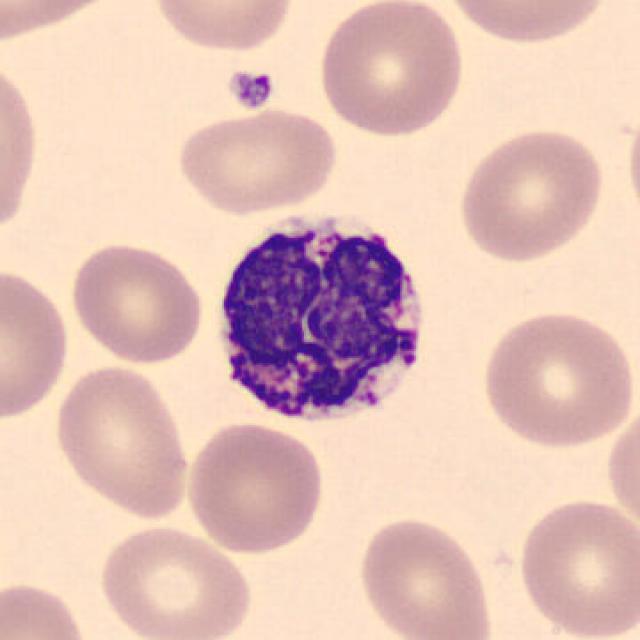Basophil: (205, 196, 439, 439)
Platelets: (226, 67, 277, 113)
RBC: (476, 305, 636, 451), (50, 360, 192, 522), (453, 123, 608, 264), (312, 0, 469, 139), (181, 418, 329, 557), (171, 104, 343, 219), (94, 522, 254, 640), (66, 236, 208, 367), (354, 513, 498, 640), (514, 492, 636, 640), (0, 263, 73, 425), (438, 0, 614, 48), (146, 0, 297, 55), (0, 53, 43, 243), (0, 576, 92, 640), (0, 0, 124, 44), (602, 402, 640, 536), (624, 99, 640, 236)
